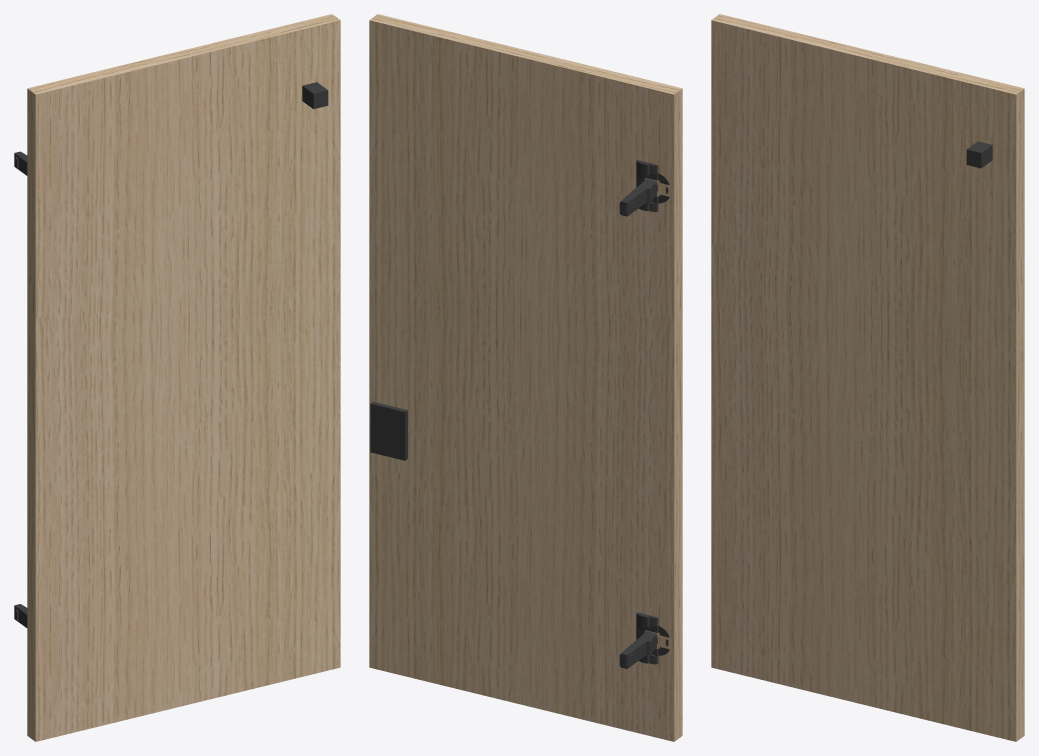
Rendered from Benk_D_dor_venstre.glb.
The picture shows the model from 3 angles, left to right: view 1: azimuth 30°, elevation 25°; view 2: azimuth 150°, elevation 25°; view 3: azimuth 330°, elevation 25°; orthographic projection.
Parts seen in each view (by area): view 1: 2025-284 Vitrineskap; view 2: 2025-284 Vitrineskap, Benk D dør venstre hengsel z758 Blum 71B3590, Benk D dør venstre hengsel z202 Blum 71B3590; view 3: 2025-284 Vitrineskap.
Boxes of the visible parts, x1,y1,x2,y2 form: 2025-284 Vitrineskap: (27,14,340,741); 2025-284 Vitrineskap: (369,14,682,741); Benk D dør venstre hengsel z758 Blum 71B3590: (619,160,669,216); Benk D dør venstre hengsel z202 Blum 71B3590: (619,612,669,668); 2025-284 Vitrineskap: (711,14,1024,741).
Size of the model in its own units: 393 by 797 by 112.
Materials: 2 (1 with a texture image).
